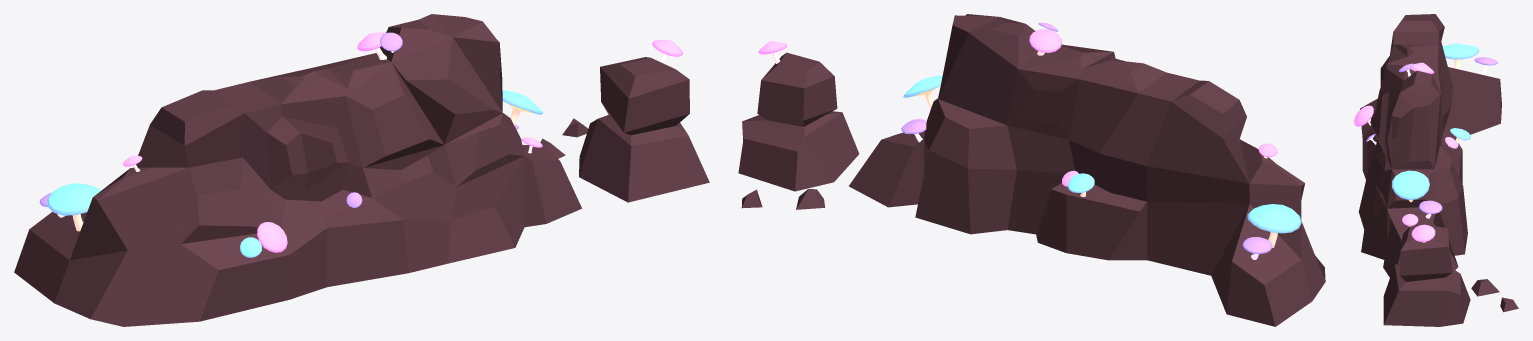
Rendered from ruína_cogu_03.fbx.
3 renders of one model, left to right at view 1: azimuth 30°, elevation 25°; view 2: azimuth 150°, elevation 25°; view 3: azimuth 270°, elevation 25°, orthographic. The views are drawn at different scales.
Visible parts, largest first — view 1: ruína_cogu_03; view 2: ruína_cogu_03; view 3: ruína_cogu_03.
Part boxes in pixels (x1,y1,x2,y2): ruína_cogu_03: (14, 14, 709, 326); ruína_cogu_03: (738, 14, 1325, 326); ruína_cogu_03: (1354, 14, 1518, 326).
Size of the model in its own units: 2509 by 823 by 789.
